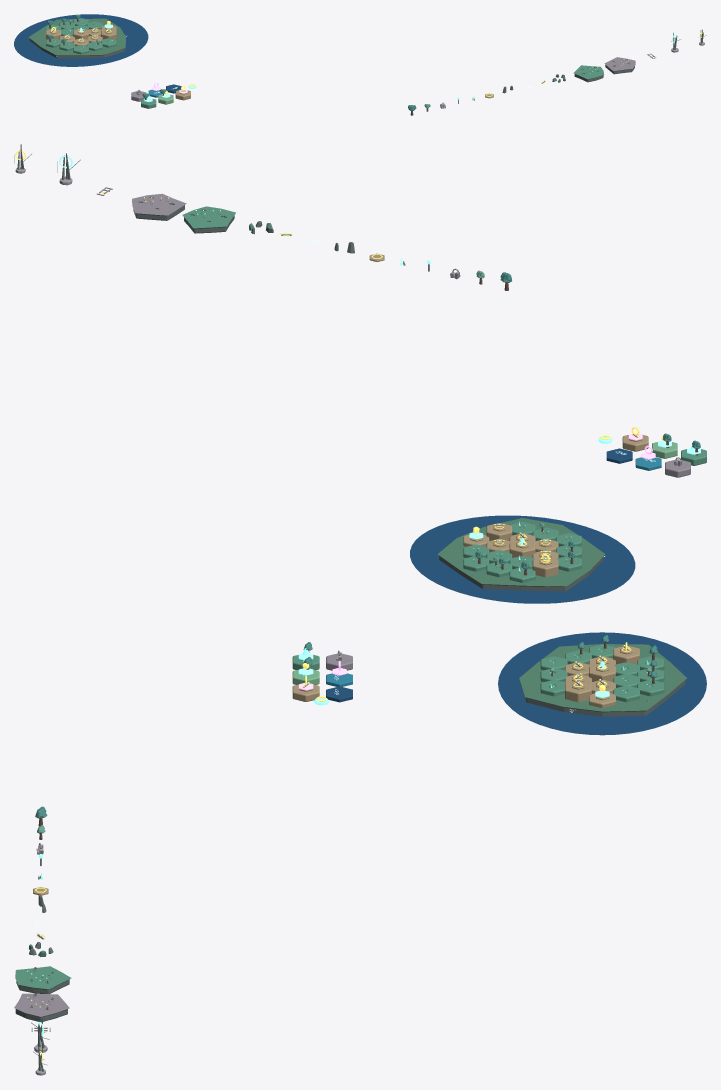
File: CH01_MAP_KIT_R7.glb
3 renders of one model, top to bottom at view 1: azimuth 30°, elevation 25°; view 2: azimuth 150°, elevation 25°; view 3: azimuth 270°, elevation 25°, orthographic. The views are drawn at different scales.
Visible parts, largest first — view 1: MAP_CONTINUOUS_TIDE, MAP_AUTHORED_ISLAND_SHELF, PROP_TERRAIN_RUIN_BED, PROP_TERRAIN_FOREST_BED; view 2: MAP_CONTINUOUS_TIDE, MAP_AUTHORED_ISLAND_SHELF, PROP_TERRAIN_RUIN_BED, PROP_TERRAIN_FOREST_BED; view 3: MAP_CONTINUOUS_TIDE, MAP_AUTHORED_ISLAND_SHELF, PROP_TERRAIN_RUIN_BED, PROP_TERRAIN_FOREST_BED.
Part boxes in pixels (<box>): MAP_CONTINUOUS_TIDE: <box>14,14,148,66</box>; MAP_AUTHORED_ISLAND_SHELF: <box>28,18,125,58</box>; PROP_TERRAIN_RUIN_BED: <box>604,57,635,74</box>; PROP_TERRAIN_FOREST_BED: <box>573,65,604,82</box>; MAP_CONTINUOUS_TIDE: <box>410,515,635,603</box>; MAP_AUTHORED_ISLAND_SHELF: <box>437,518,605,591</box>; PROP_TERRAIN_RUIN_BED: <box>132,193,186,220</box>; PROP_TERRAIN_FOREST_BED: <box>182,206,235,233</box>; MAP_CONTINUOUS_TIDE: <box>498,632,706,735</box>; MAP_AUTHORED_ISLAND_SHELF: <box>519,644,686,716</box>; PROP_TERRAIN_RUIN_BED: <box>14,993,69,1022</box>; PROP_TERRAIN_FOREST_BED: <box>15,966,71,993</box>.
Size of the model in its own units: 67.88 by 2.81 by 44.43.
